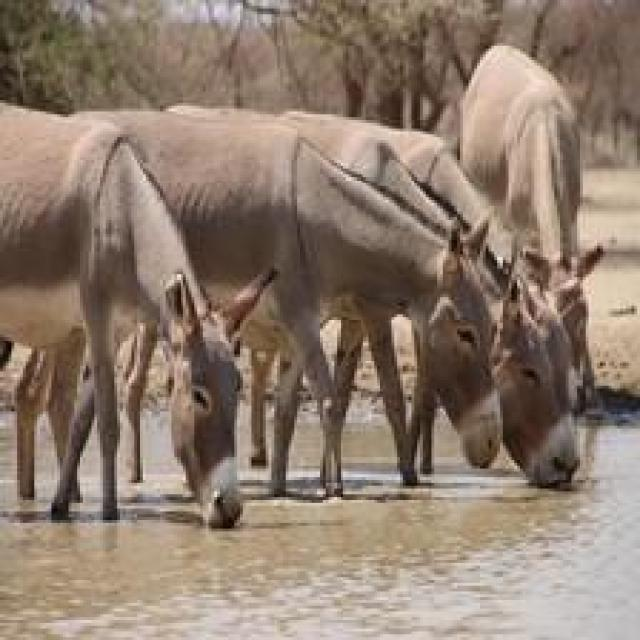Donkey: (63, 109, 503, 500), (241, 99, 590, 484), (0, 97, 277, 523), (266, 103, 583, 443), (457, 40, 603, 417)
